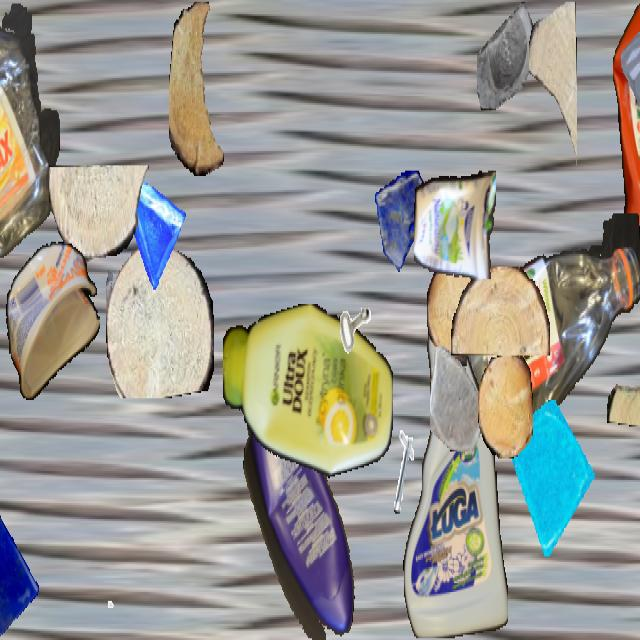glass: (511, 400, 599, 556), (116, 167, 186, 292), (477, 2, 537, 108), (430, 346, 488, 449), (0, 500, 41, 638), (375, 171, 431, 270), (621, 2, 640, 112)
metal: (319, 254, 379, 361), (379, 430, 435, 530), (83, 553, 121, 620)
plastic: (465, 213, 640, 423), (403, 301, 507, 638), (223, 304, 393, 482), (240, 386, 360, 638), (0, 2, 59, 258), (6, 242, 100, 402), (414, 164, 496, 278), (613, 2, 640, 286)
wood: (106, 242, 214, 398), (169, 2, 229, 176), (49, 166, 149, 262), (451, 266, 549, 356), (529, 2, 577, 172), (478, 356, 532, 458), (427, 260, 477, 366), (607, 364, 640, 428)
